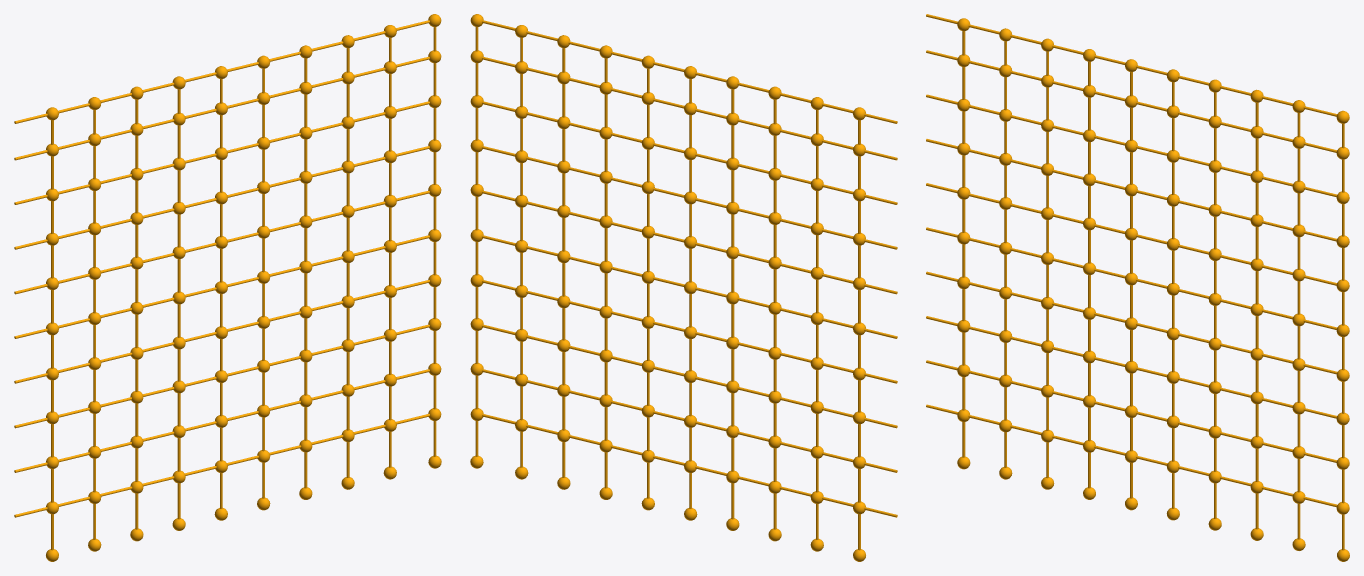
Rendered from Net_MESH.fbx.
The picture shows the model from 3 angles, left to right: view 1: azimuth 30°, elevation 25°; view 2: azimuth 150°, elevation 25°; view 3: azimuth 330°, elevation 25°; orthographic projection.
Visible parts, largest first — view 1: Cylinder034; view 2: Cylinder034; view 3: Cylinder034.
Part boxes in pixels (x1,y1,x2,y2): Cylinder034: (14,14,441,561); Cylinder034: (470,14,897,561); Cylinder034: (926,14,1349,561).
Size of the model in its own units: 99.6 by 101 by 2.71.
